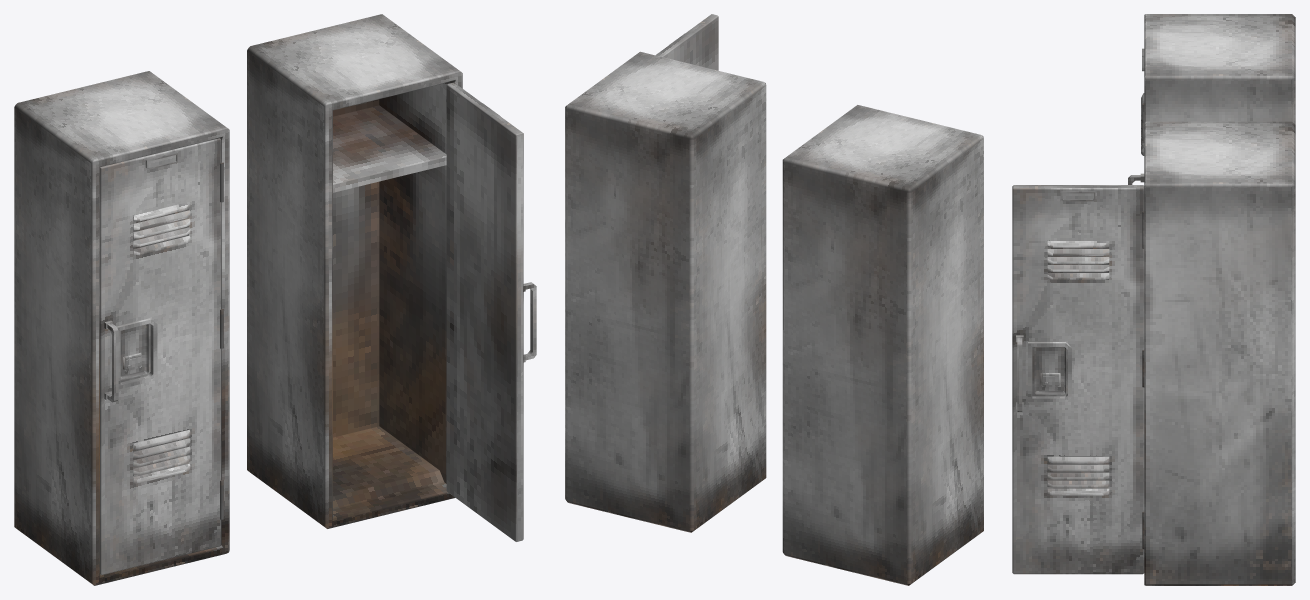
File: dirty_locker_256x256_retro.glb
3 renders of one model, left to right at view 1: azimuth 30°, elevation 25°; view 2: azimuth 150°, elevation 25°; view 3: azimuth 270°, elevation 25°, orthographic. The views are drawn at different scales.
Visible parts, largest first — view 1: Locker, Locker.003; view 2: Locker, Locker.003; view 3: Locker, Locker.003.
Boxes of the visible parts, x1,y1,x2,y2 form: Locker: (247,14,536,541); Locker.003: (14,71,229,585); Locker: (565,14,766,532); Locker.003: (782,105,983,585); Locker: (1012,121,1295,585); Locker.003: (1128,14,1295,185).
Size of the model in its own units: 1.17 by 1.27 by 0.8065.
1 material, 1 textured.
